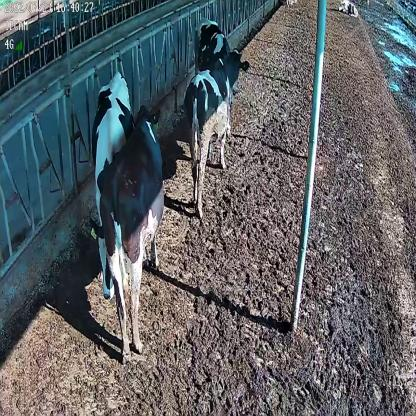cow: (91, 70, 166, 361), (182, 46, 251, 214), (193, 17, 230, 76), (336, 0, 358, 19)
